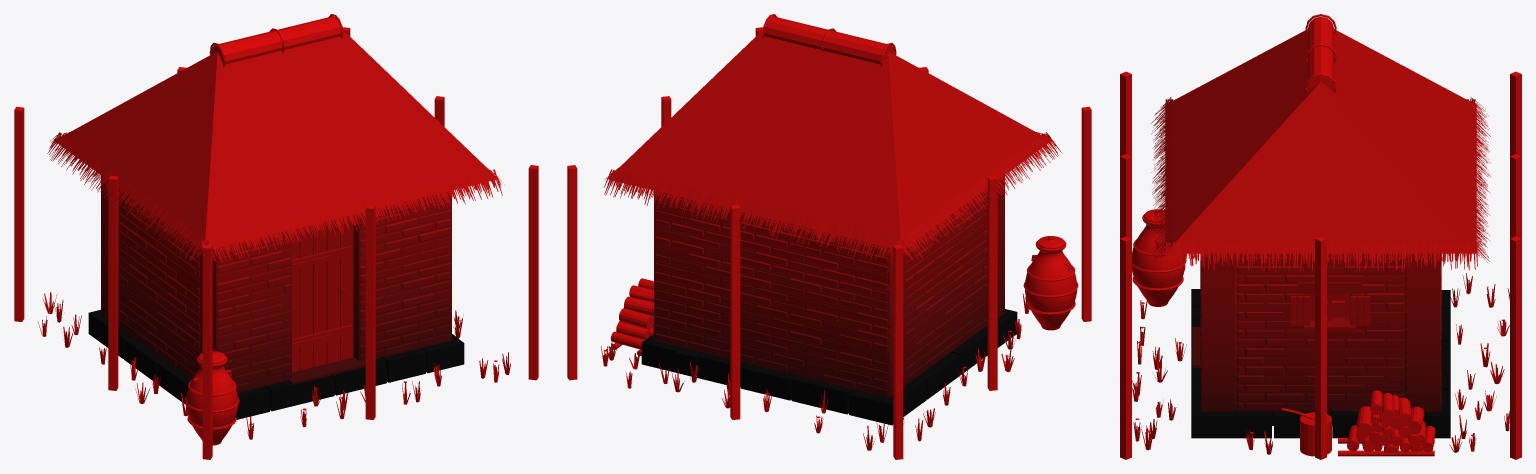
The model's file is common_housing_1.glb.
The picture shows the model from 3 angles, left to right: view 1: azimuth 30°, elevation 25°; view 2: azimuth 150°, elevation 25°; view 3: azimuth 270°, elevation 25°; orthographic projection. The views are drawn at different scales.
Parts seen in each view (by area): view 1: common_housing_1; view 2: common_housing_1; view 3: common_housing_1.
Part boxes in pixels (x1=…): common_housing_1: x1=14, y1=14, x2=538, y2=459; common_housing_1: x1=567, y1=14, x2=1091, y2=459; common_housing_1: x1=1120, y1=14, x2=1521, y2=459.
Size of the model in its own units: 2 by 1.82 by 2.
